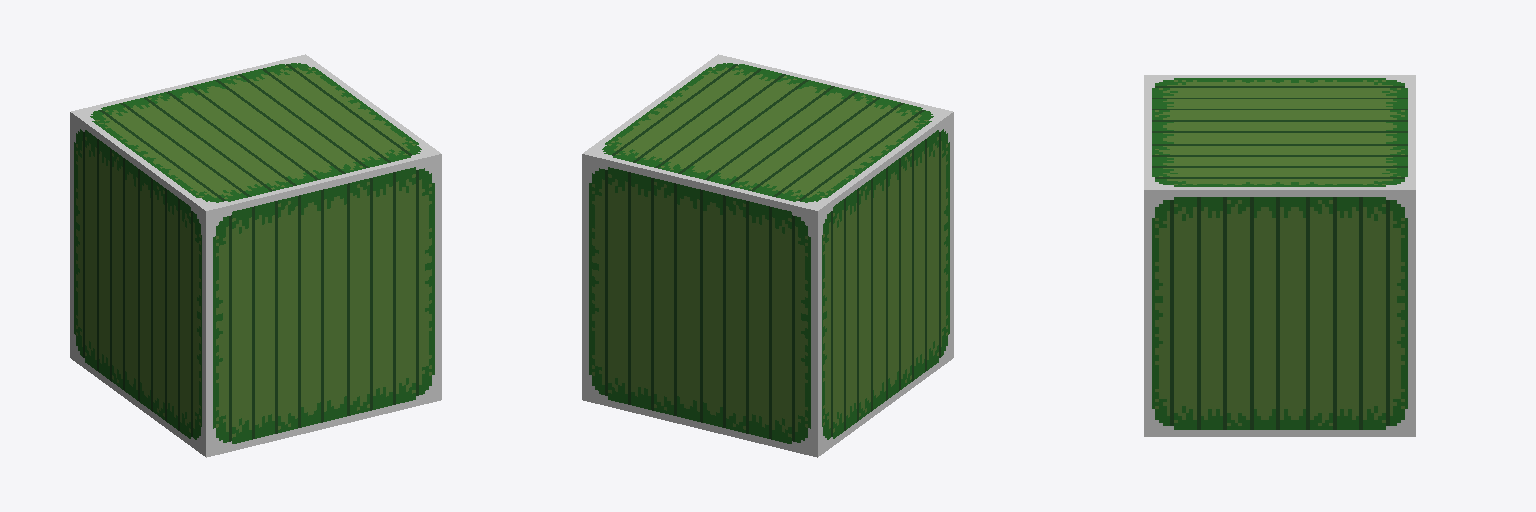
3 renders of one model, left to right at view 1: azimuth 30°, elevation 25°; view 2: azimuth 150°, elevation 25°; view 3: azimuth 270°, elevation 25°, orthographic.
Visible parts, largest first — view 1: GameObject_house_textured_green_cube.002; view 2: GameObject_house_textured_green_cube.002; view 3: GameObject_house_textured_green_cube.002.
Part boxes in pixels (x1,y1,x2,y2): GameObject_house_textured_green_cube.002: (70,54,441,457); GameObject_house_textured_green_cube.002: (582,54,953,457); GameObject_house_textured_green_cube.002: (1144,75,1415,436).
Bounding box in the file's own units: 7.2 × 7.2 × 7.2.
Materials: 1 (1 with a texture image).